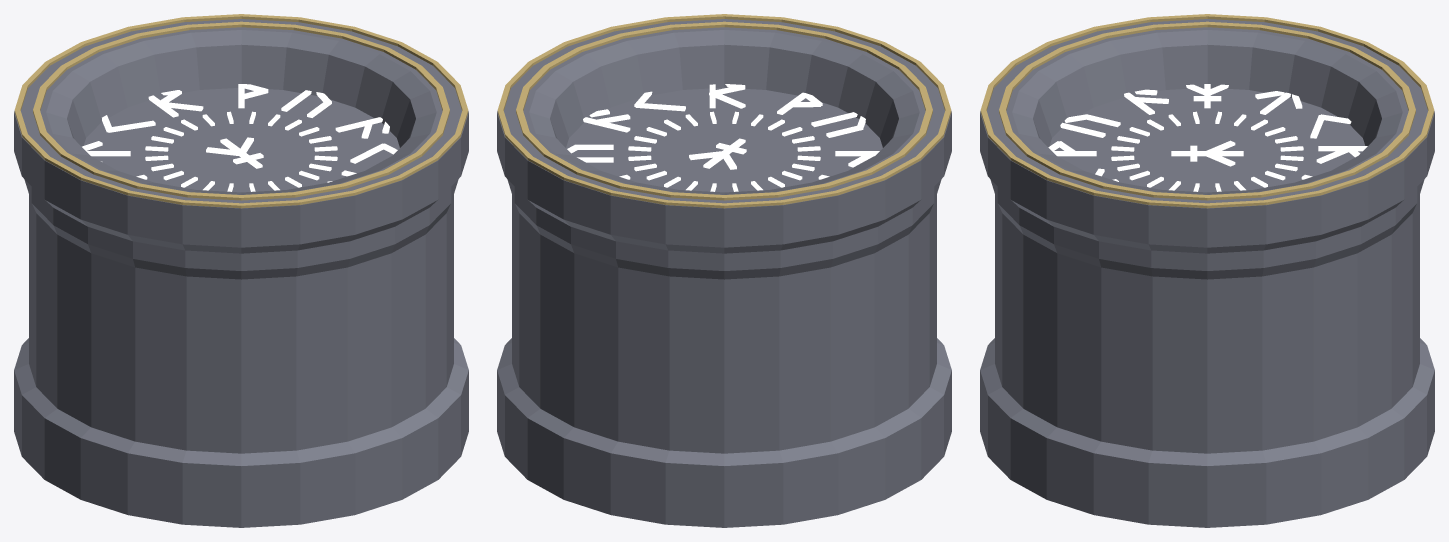
Rendered from RelicSocketMoon.fbx.
3 views of the same model, side by side, from view 1: azimuth 30°, elevation 25°; view 2: azimuth 150°, elevation 25°; view 3: azimuth 270°, elevation 25° (orthographic).
Visible parts, largest first — view 1: RelicSocketMoon, Rune; view 2: RelicSocketMoon, Rune; view 3: RelicSocketMoon, Rune.
Boxes of the visible parts, left/top/right/bottom form: RelicSocketMoon: left=14, top=14, right=468, bottom=527; Rune: left=82, top=84, right=397, bottom=191; RelicSocketMoon: left=497, top=14, right=951, bottom=527; Rune: left=567, top=84, right=879, bottom=191; RelicSocketMoon: left=980, top=14, right=1434, bottom=527; Rune: left=1048, top=84, right=1367, bottom=191.
Size of the model in its own units: 0.4 by 0.3125 by 0.4.
